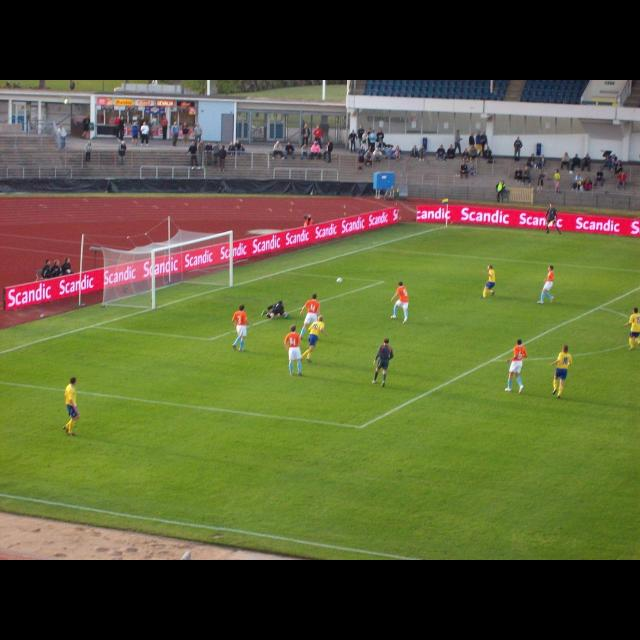Football: (332, 275, 343, 281)
